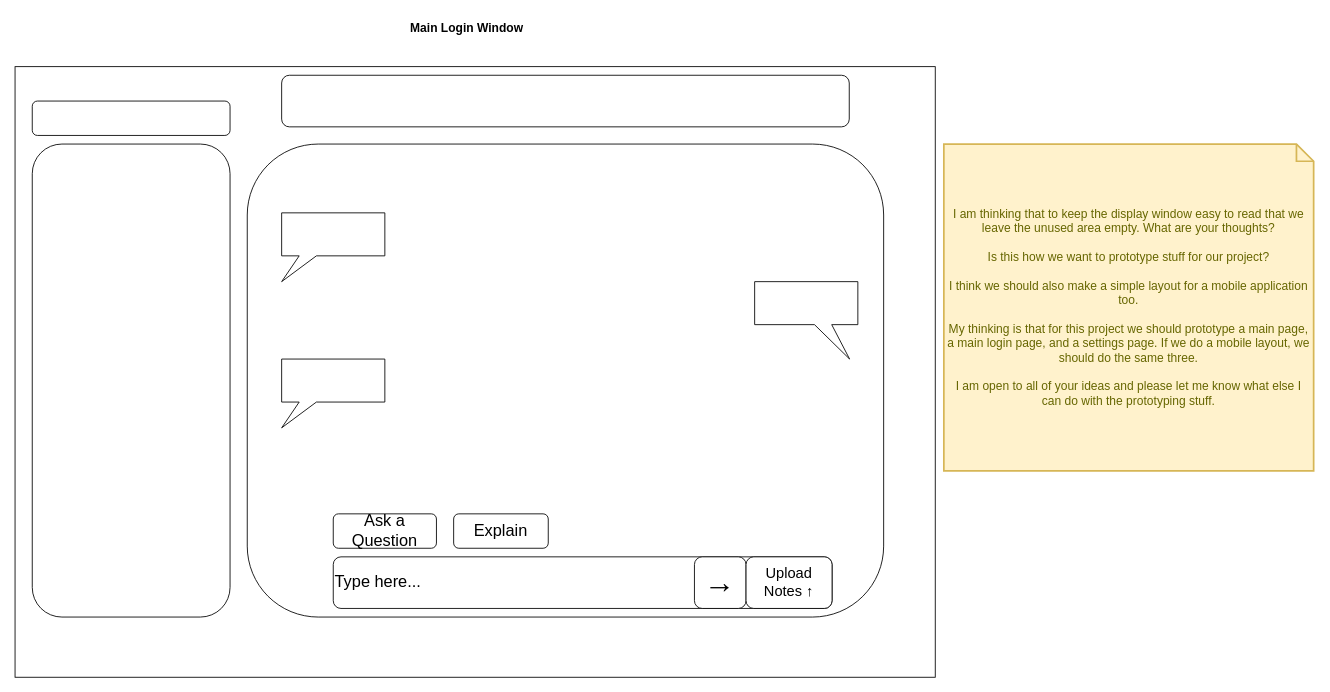
This 1330x692 diagram has some shape labels left out. The centre of each missing label's shape, as x and y in pixels:
"Discrete Math - Linear Independence" goes at pixel 565 100.
"Discrete Math - Linear Independence World War 2 Spanish - Irregular Conjugation" goes at pixel 130 380.
"Topics" goes at pixel 130 117.
